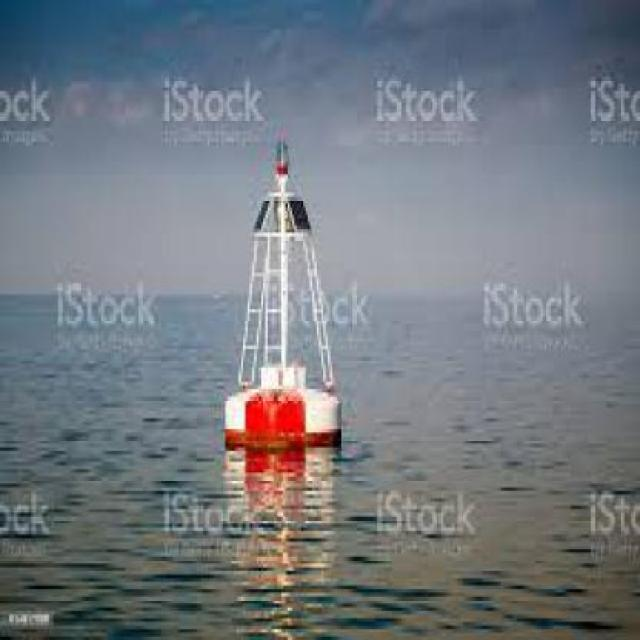buoy: (226, 154, 347, 456)
